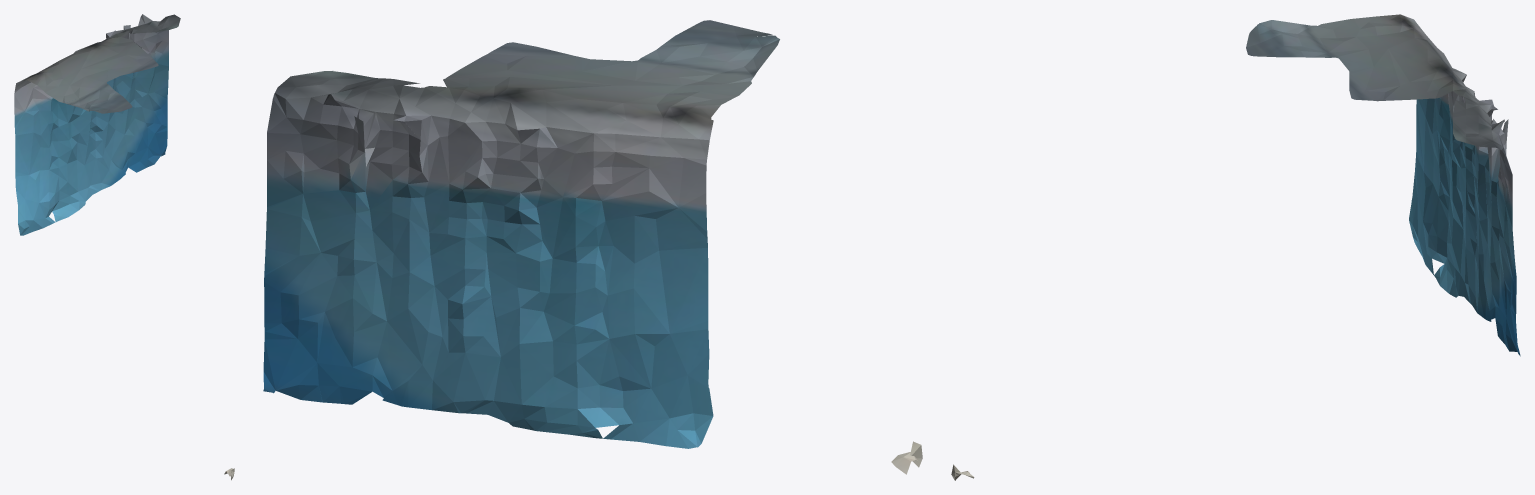
3 views of the same model, side by side, from view 1: azimuth 30°, elevation 25°; view 2: azimuth 150°, elevation 25°; view 3: azimuth 270°, elevation 25° (orthographic). The views are drawn at different scales.
Visible parts, largest first — view 1: mesh; view 2: mesh; view 3: mesh.
Part boxes in pixels (left/top/right/bottom): mesh: left=14, top=14, right=234, bottom=480; mesh: left=263, top=20, right=922, bottom=474; mesh: left=951, top=14, right=1520, bottom=480.
Bounding box in the file's own units: 2.4 × 3.72 × 4.4.
Materials: 1 (1 with a texture image).
